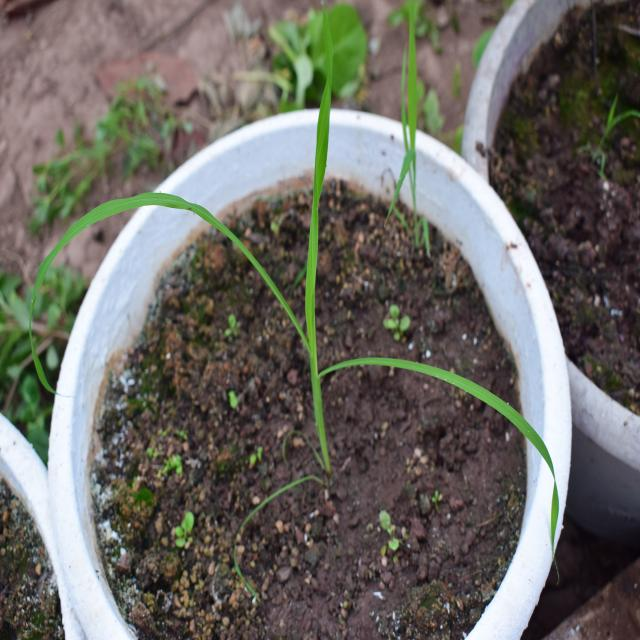barnyard_grass: (50, 74, 556, 510)
